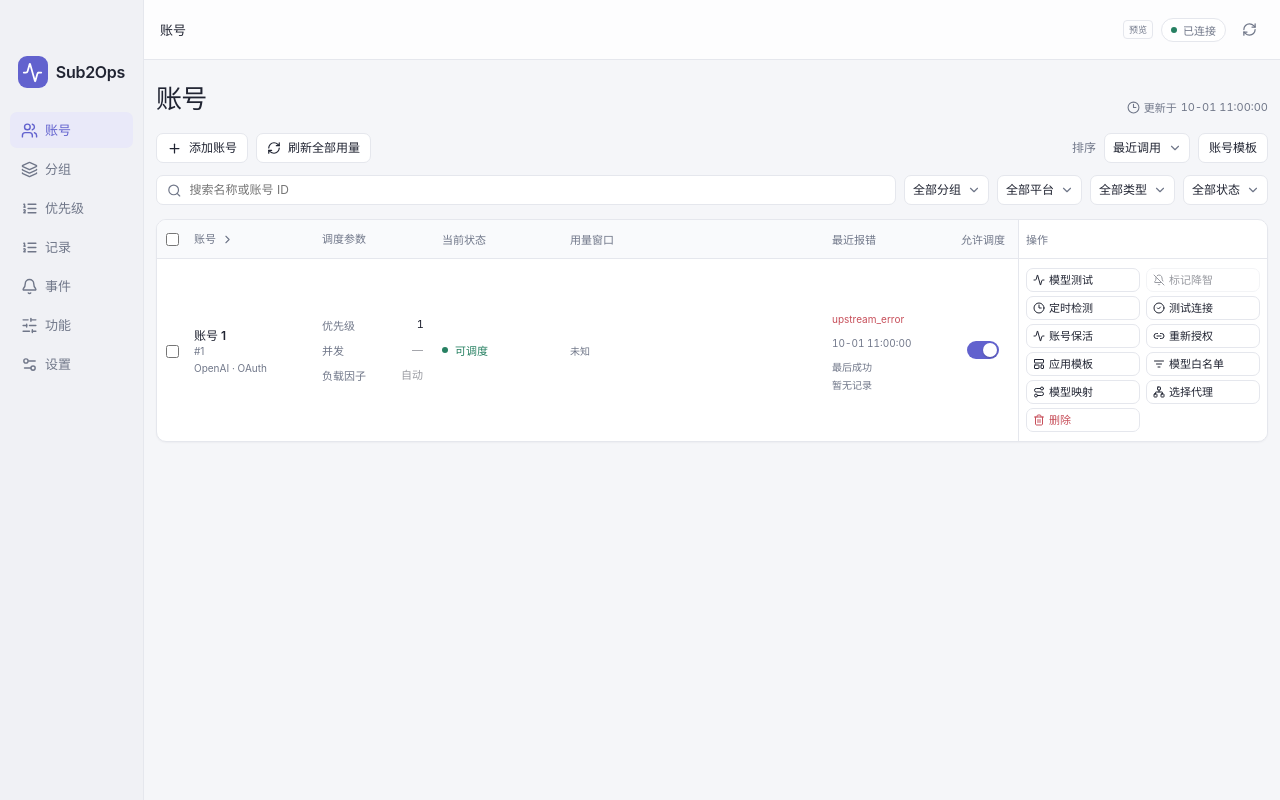
main page surface ownership › keeps full history while distinguishing current and resolved errors
The image size is (1280, 800).
Click the button "事件".
click(72, 286)  # box 10,268 -> 133,304
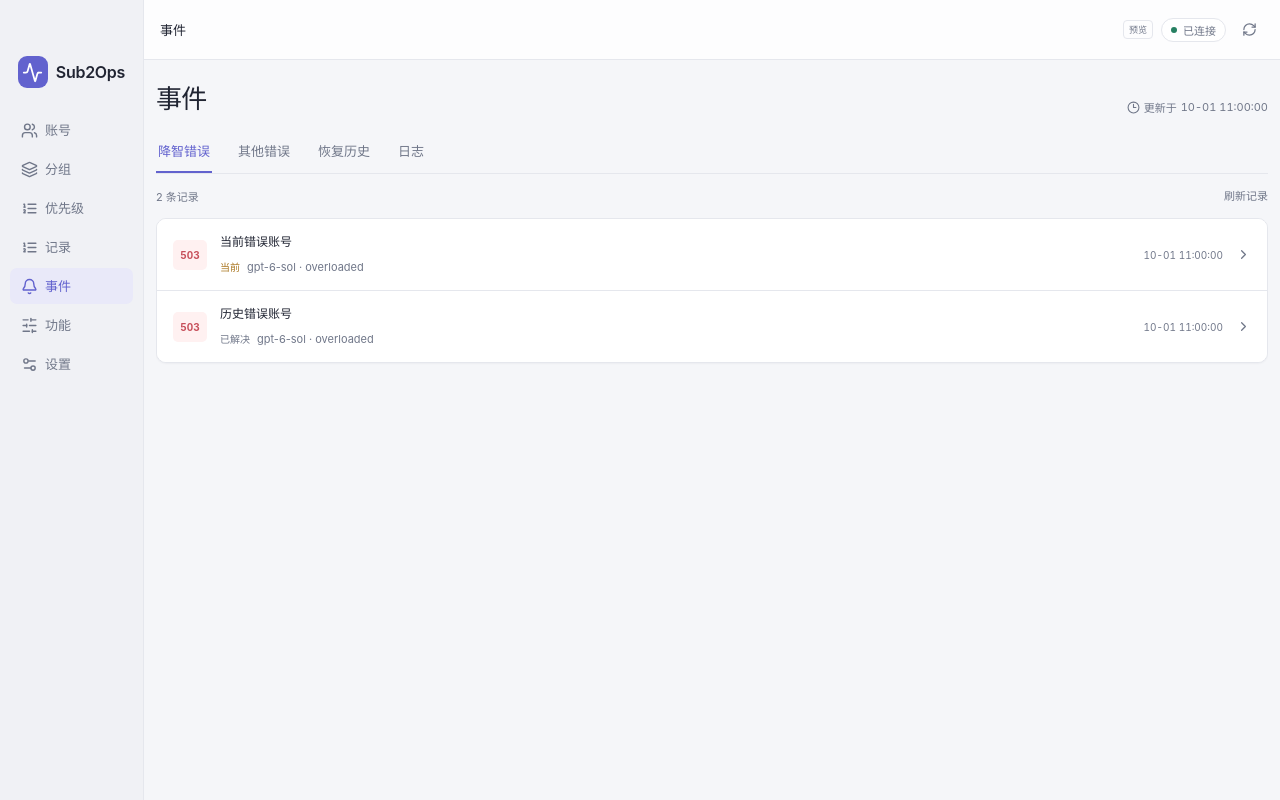
Expected: the number of buttons with class "error-row" is 2, 157,219 -> 1267,291; 157,291 -> 1267,362
